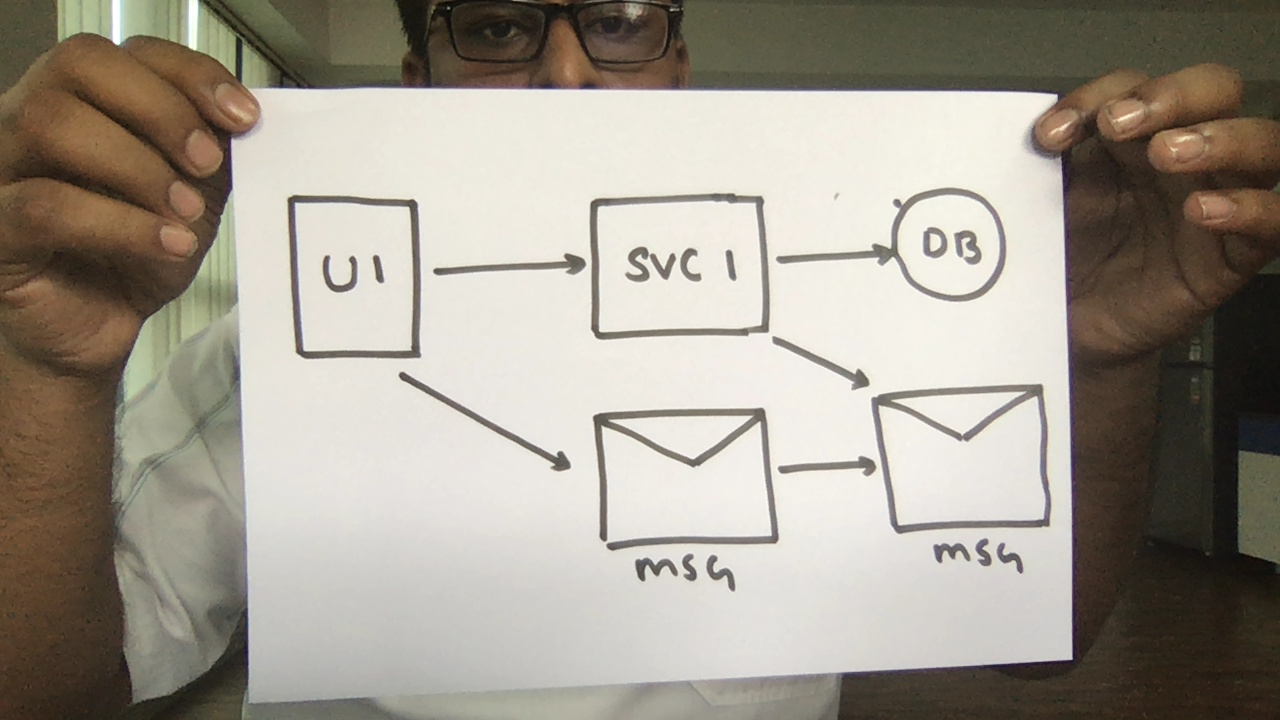arrow: (394, 364, 580, 480), (424, 235, 597, 296), (770, 224, 901, 285), (765, 331, 881, 397), (772, 442, 883, 496)
db: (885, 185, 1011, 307)
ec2: (579, 187, 782, 345)
sns: (863, 381, 1064, 572), (586, 405, 786, 581)
ui: (282, 189, 432, 367)
